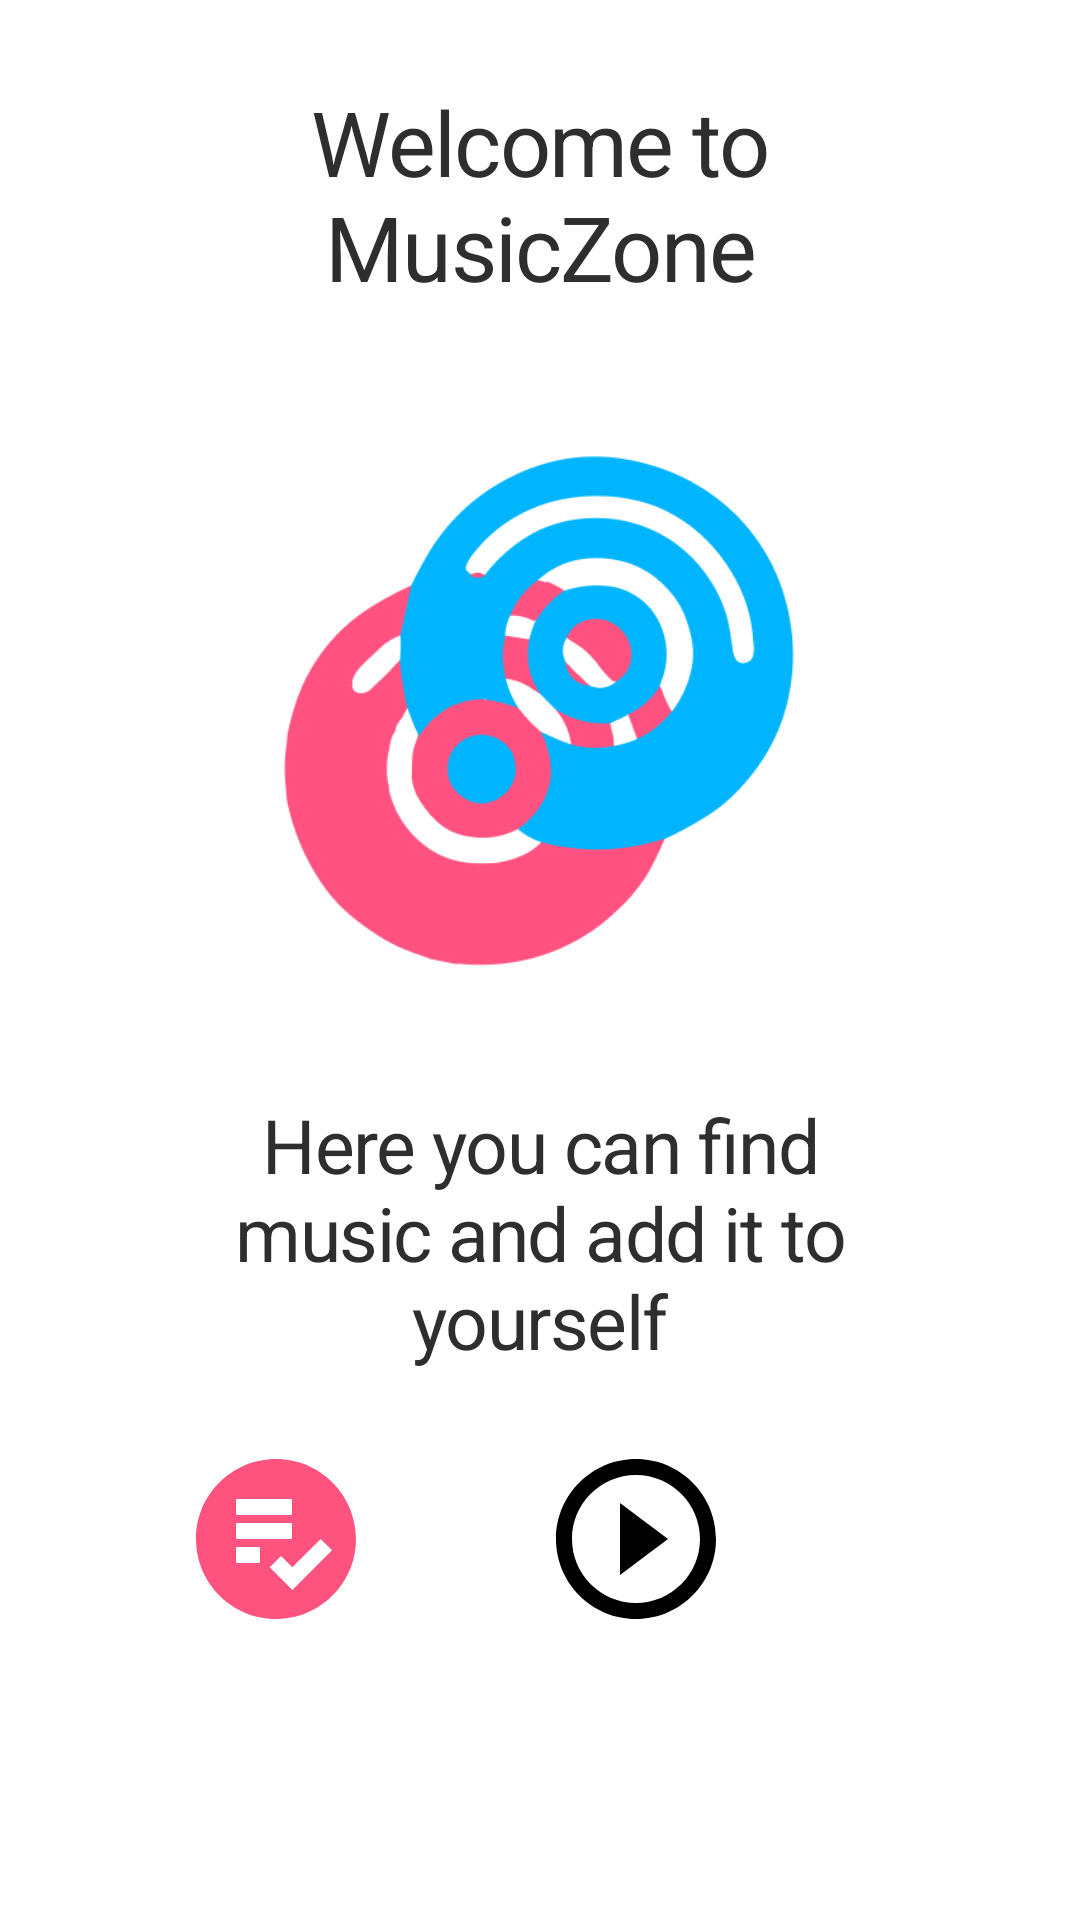

Icons on this 1080*1920 Android screen, each with its box as (x1, y1, x2, y2):
play circle: (555, 1459, 716, 1619)
